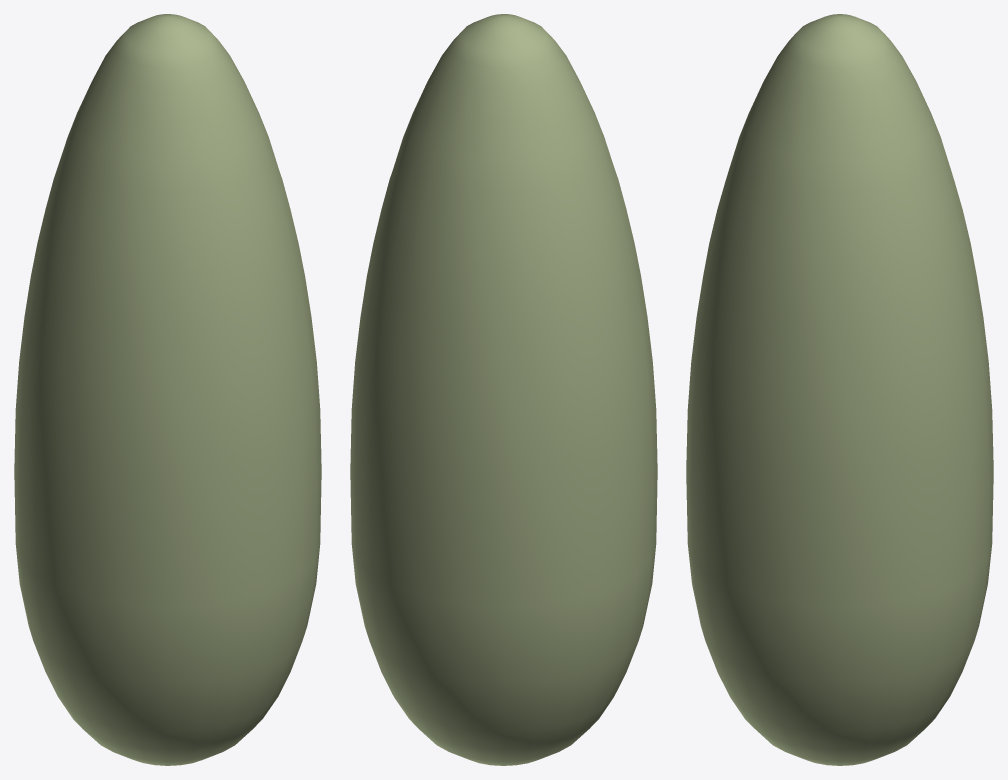
The model's file is AgaveStricta.glb.
3 renders of one model, left to right at view 1: azimuth 30°, elevation 25°; view 2: azimuth 150°, elevation 25°; view 3: azimuth 270°, elevation 25°, orthographic.
Parts seen in each view (by area): view 1: Hedgehog_Agave__Schematic_LOD3; view 2: Hedgehog_Agave__Schematic_LOD3; view 3: Hedgehog_Agave__Schematic_LOD3.
Boxes of the visible parts, x1=… form: Hedgehog_Agave__Schematic_LOD3: x1=14, y1=14, x2=321, y2=765; Hedgehog_Agave__Schematic_LOD3: x1=350, y1=14, x2=657, y2=765; Hedgehog_Agave__Schematic_LOD3: x1=686, y1=14, x2=993, y2=765.
Size of the model in its own units: 0.8 by 2.12 by 0.8.
